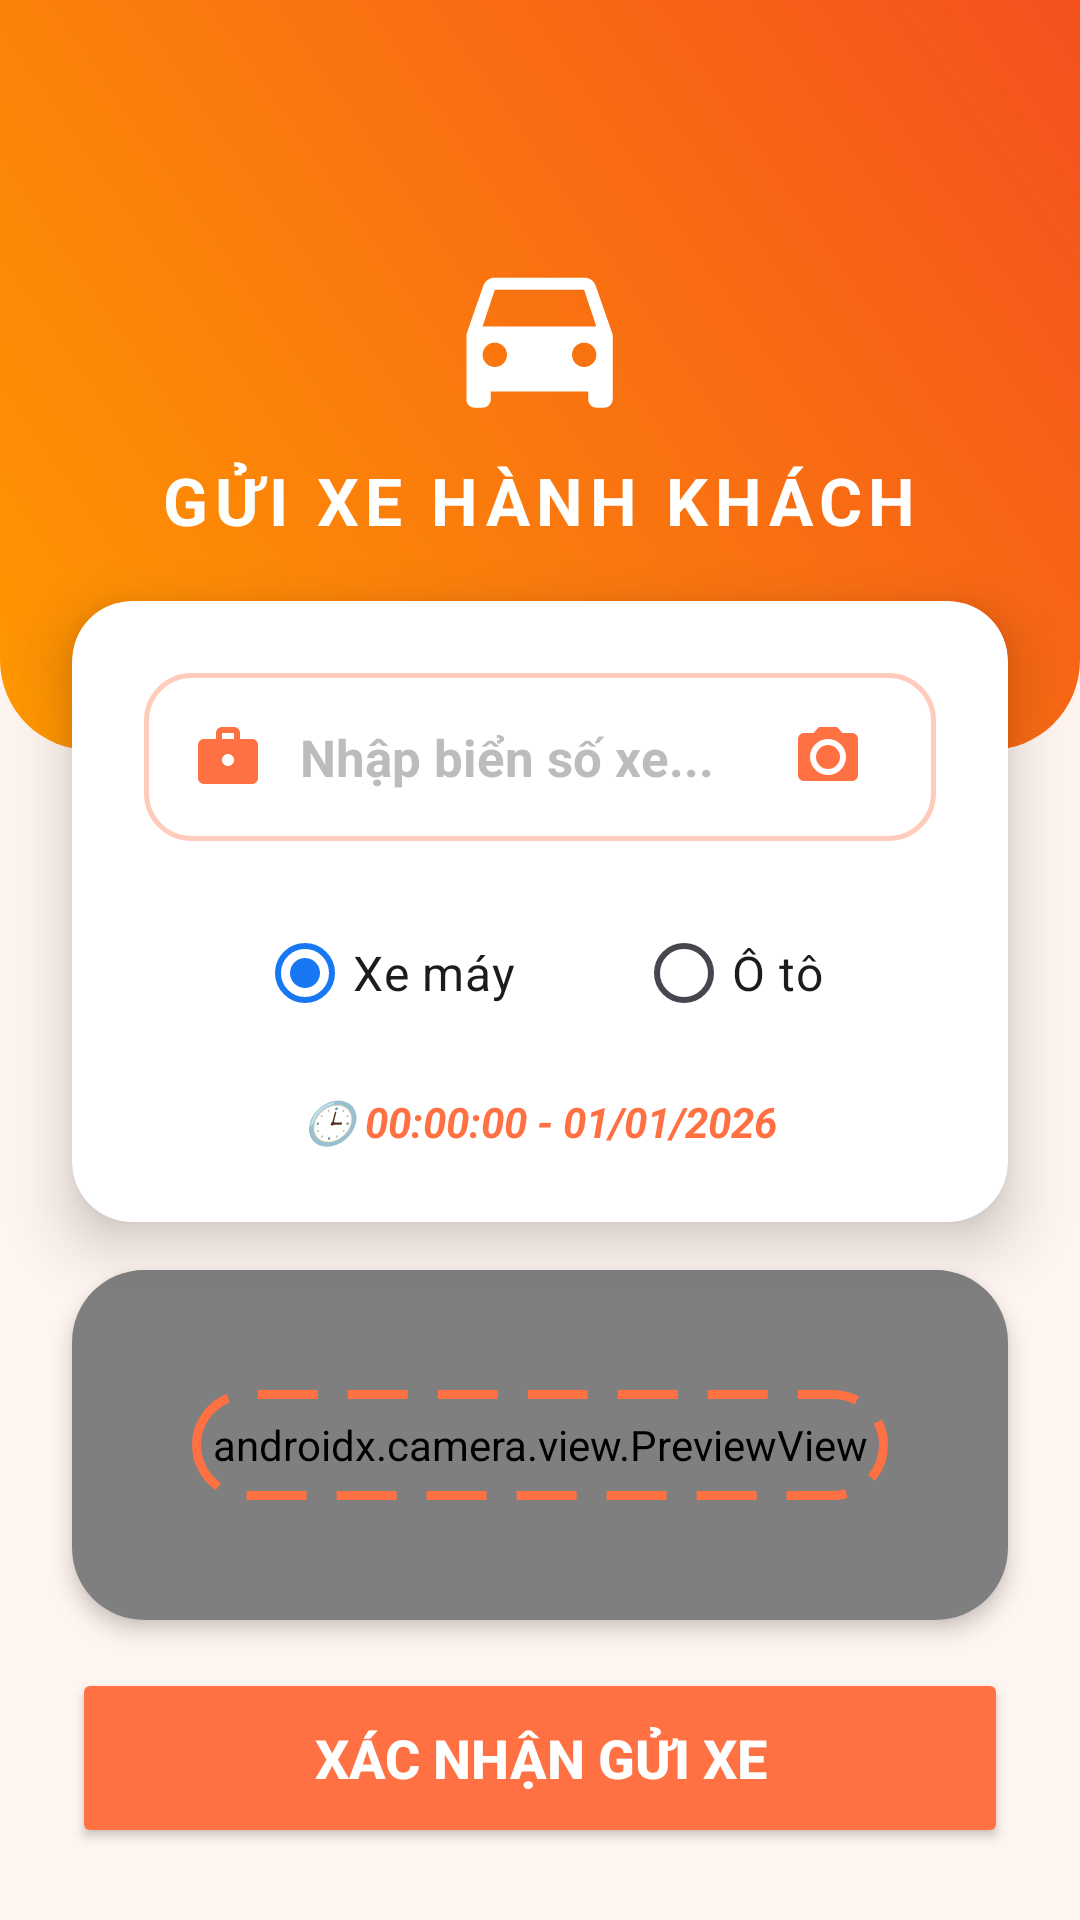

Where to tap for icons on this 1080w x 1920h app screen, as (x=x, y=y):
directions car: (x=539, y=342)
